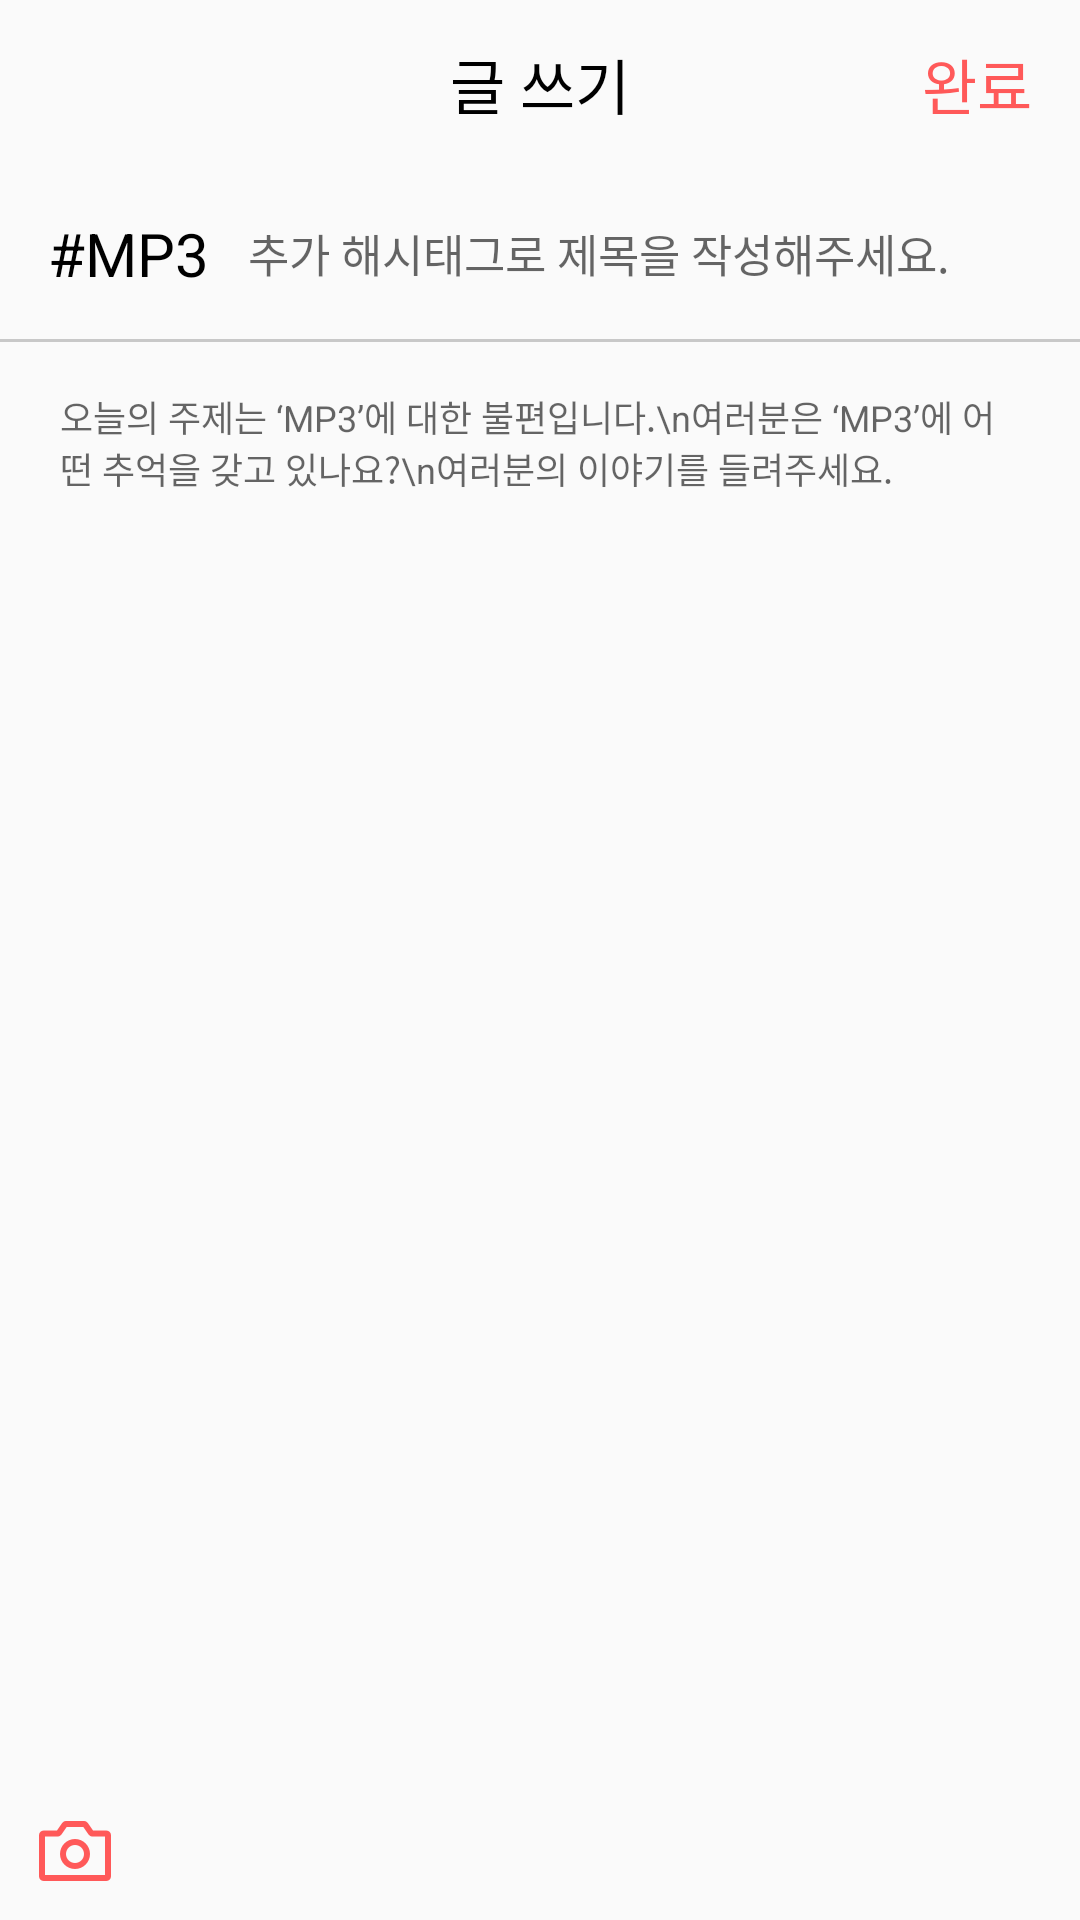

Where to tap for icons on this 1080*1920 app screen, as (x=x, y=y):
camera: (x=75, y=1851)
